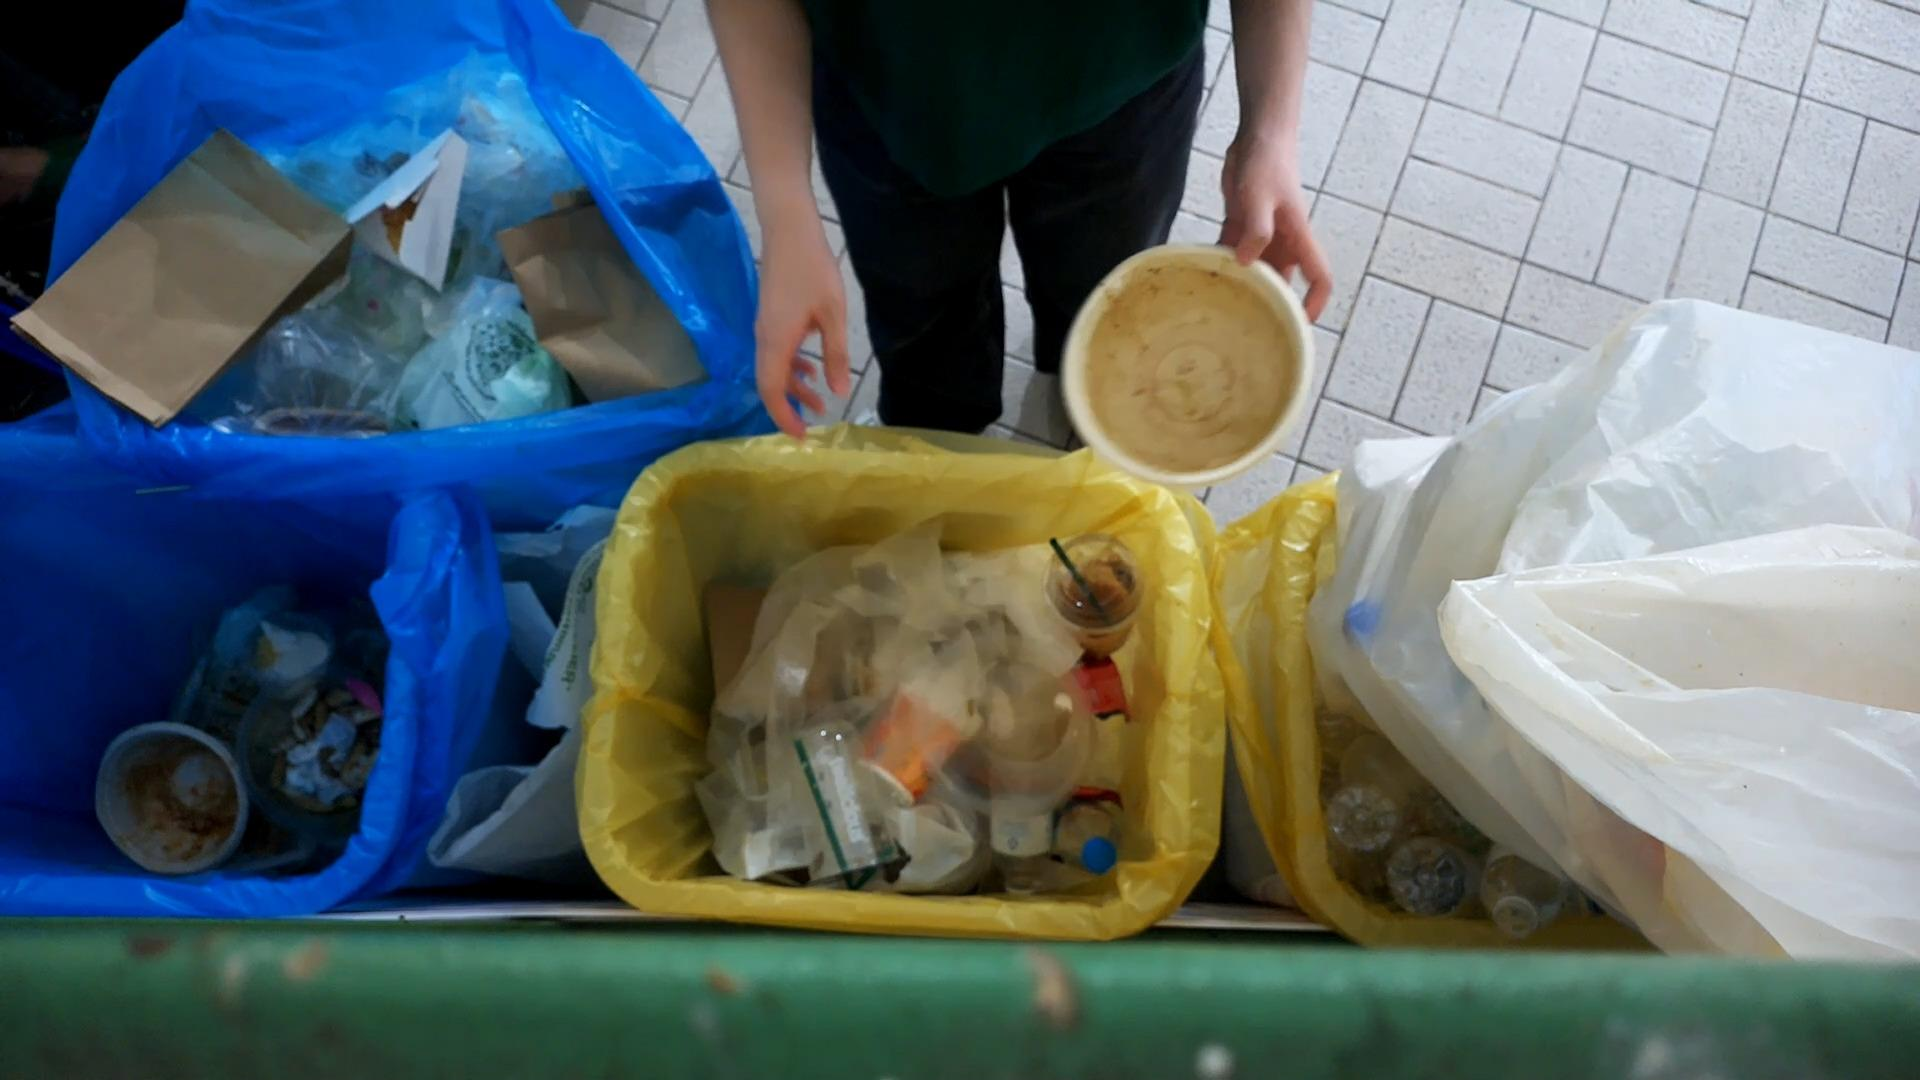food container: (1063, 239, 1317, 488), (913, 626, 1104, 816), (92, 728, 255, 878)
paper bag: (0, 121, 361, 436)
plastic bottle: (1320, 750, 1412, 856), (989, 785, 1052, 901)
plastic cup: (796, 720, 907, 889), (1046, 529, 1147, 659)
snack packaging: (1058, 654, 1137, 724), (1040, 775, 1131, 811)
straw: (793, 736, 858, 874), (1047, 537, 1116, 628)
